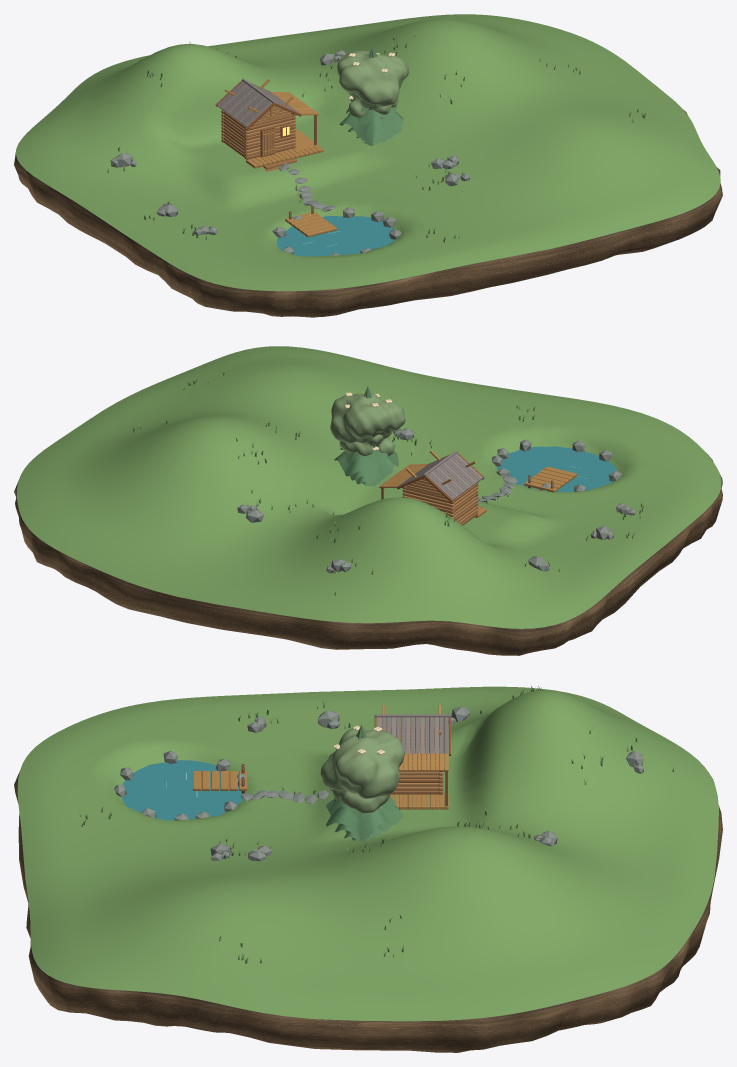
File: forest-v1.glb
3 renders of one model, top to bottom at view 1: azimuth 30°, elevation 25°; view 2: azimuth 150°, elevation 25°; view 3: azimuth 270°, elevation 25°, orthographic. The views are drawn at different scales.
Visible parts, largest first — view 1: terrain, terrain_edge, decor_cabin, decor_pond, tree_2_3_crown, decor_path_and_dock, ground_stones, tree_0_3_crown, ground_grass, tree_2_2_crown; view 2: terrain, terrain_edge, decor_cabin, decor_pond, tree_2_3_crown, decor_path_and_dock, ground_stones, tree_0_3_crown, ground_grass, tree_2_2_crown; view 3: terrain, terrain_edge, decor_cabin, decor_pond, tree_2_3_crown, decor_path_and_dock, ground_stones, tree_0_3_crown, ground_grass, tree_2_2_crown.
Boxes of the visible parts, x1,y1,x2,y2 form: terrain: (16, 14, 720, 291); terrain_edge: (14, 109, 722, 317); decor_cabin: (215, 78, 323, 171); decor_pond: (276, 216, 394, 256); tree_2_3_crown: (337, 50, 408, 106); decor_path_and_dock: (272, 163, 401, 255); ground_stones: (110, 50, 469, 235); tree_0_3_crown: (339, 46, 403, 137); ground_grass: (107, 32, 645, 242); tree_2_2_crown: (348, 93, 398, 117); terrain: (17, 346, 721, 628); terrain_edge: (14, 453, 722, 655); decor_cabin: (379, 450, 486, 525); decor_pond: (496, 446, 617, 492); tree_2_3_crown: (330, 393, 405, 443); decor_path_and_dock: (478, 439, 622, 502); ground_stones: (237, 428, 635, 573); tree_0_3_crown: (334, 386, 398, 478); ground_grass: (132, 371, 644, 595); tree_2_2_crown: (339, 431, 394, 456); terrain: (17, 686, 718, 1021); terrain_edge: (14, 772, 722, 1052); decor_cabin: (374, 705, 450, 809); decor_pond: (122, 760, 242, 820); tree_2_3_crown: (320, 727, 404, 798); decor_path_and_dock: (114, 751, 332, 820); ground_stones: (210, 706, 643, 860); tree_0_3_crown: (326, 725, 403, 836); ground_grass: (78, 685, 673, 963); tree_2_2_crown: (332, 789, 390, 813).
Bounding box in the file's own units: 30.68 × 7.51 × 27.59.
Materials: 18 (1 with a texture image).
